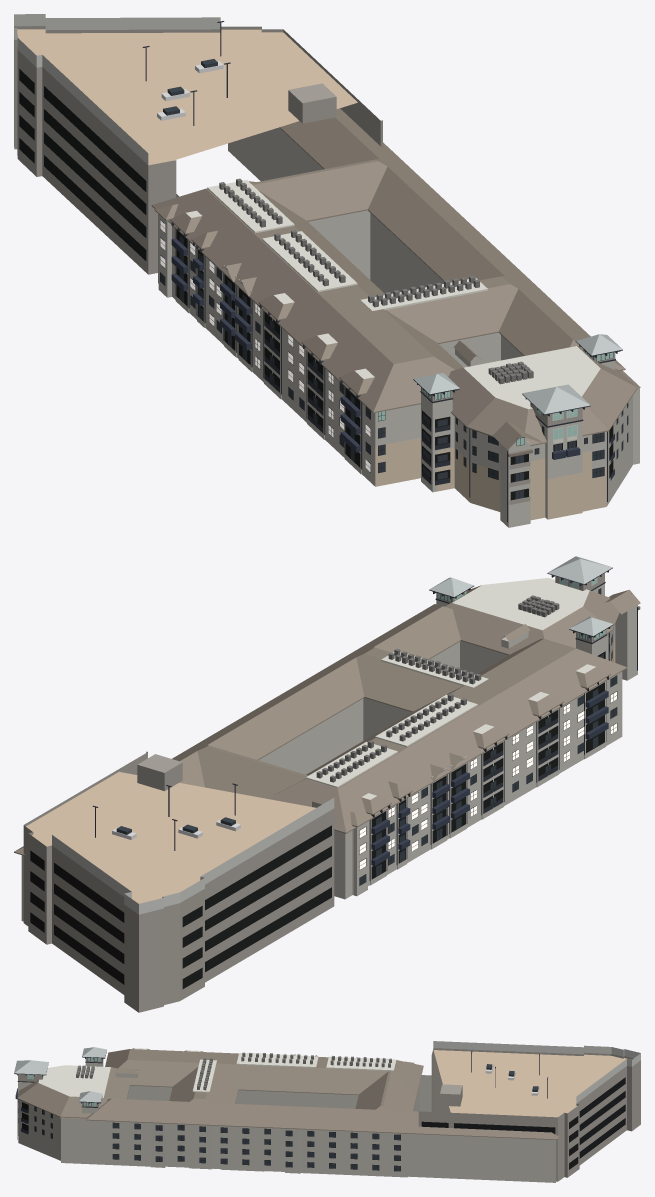
File: villas-on-guadalupe-look.glb
The picture shows the model from 3 angles, top to bottom: view 1: azimuth 30°, elevation 25°; view 2: azimuth 150°, elevation 25°; view 3: azimuth 270°, elevation 25°; orthographic projection. The views are drawn at different scales.
Visible parts, largest first — view 1: n_roof_shingle, n_wall_stucco_grey, n_deck_concrete, n_deck_wall_concrete, n_balcony_recess_dark, n_roof_membrane_white, n_stone_limestone, n_deck_screen, n_glass_window, n_ac_unit_grey, n_trim_dark, n_balcony_navy (+6 smaller); view 2: n_roof_shingle, n_deck_wall_concrete, n_wall_stucco_grey, n_deck_concrete, n_balcony_recess_dark, n_roof_membrane_white, n_ac_unit_grey, n_deck_screen, n_trim_dark, n_glass_window, n_balcony_navy, n_roof_metal_tower (+3 smaller); view 3: n_wall_stucco_grey, n_roof_shingle, n_deck_concrete, n_deck_wall_concrete, n_roof_membrane_white, n_balcony_recess_dark, n_glass_window, n_deck_screen, n_frame_dark, n_ac_unit_grey, n_fascia_trim, n_roof_metal_tower (+2 smaller).
Part boxes in pixels (<box>): n_roof_shingle: <box>152,108,640,457</box>; n_wall_stucco_grey: <box>158,127,639,527</box>; n_deck_concrete: <box>17,29,357,165</box>; n_deck_wall_concrete: <box>14,26,382,274</box>; n_balcony_recess_dark: <box>19,69,613,500</box>; n_roof_membrane_white: <box>186,180,600,443</box>; n_stone_limestone: <box>375,437,606,520</box>; n_deck_screen: <box>14,14,220,164</box>; n_glass_window: <box>160,59,628,499</box>; n_ac_unit_grey: <box>219,178,533,384</box>; n_trim_dark: <box>142,21,622,522</box>; n_balcony_navy: <box>171,238,614,480</box>; n_roof_shingle: <box>14,585,640,854</box>; n_deck_wall_concrete: <box>23,751,334,1012</box>; n_wall_stucco_grey: <box>21,583,637,921</box>; n_deck_concrete: <box>26,772,315,903</box>; n_balcony_recess_dark: <box>30,651,605,988</box>; n_roof_membrane_white: <box>306,578,595,799</box>; n_ac_unit_grey: <box>316,595,559,782</box>; n_deck_screen: <box>52,798,334,914</box>; n_trim_dark: <box>92,567,637,880</box>; n_glass_window: <box>116,588,616,885</box>; n_balcony_navy: <box>371,690,608,865</box>; n_roof_metal_tower: <box>429,556,613,636</box>; n_wall_stucco_grey: <box>18,1060,555,1182</box>; n_roof_shingle: <box>17,1048,558,1139</box>; n_deck_concrete: <box>433,1050,631,1117</box>; n_deck_wall_concrete: <box>418,1048,640,1181</box>; n_roof_membrane_white: <box>38,1048,396,1097</box>; n_balcony_recess_dark: <box>22,1077,625,1169</box>; n_glass_window: <box>18,1064,538,1171</box>; n_deck_screen: <box>433,1041,640,1103</box>; n_frame_dark: <box>34,1058,400,1171</box>; n_ac_unit_grey: <box>76,1052,391,1090</box>; n_fascia_trim: <box>17,1068,558,1139</box>; n_roof_metal_tower: <box>14,1047,106,1102</box>.
Bounding box in the file's own units: 60.44 × 26.92 × 184.
